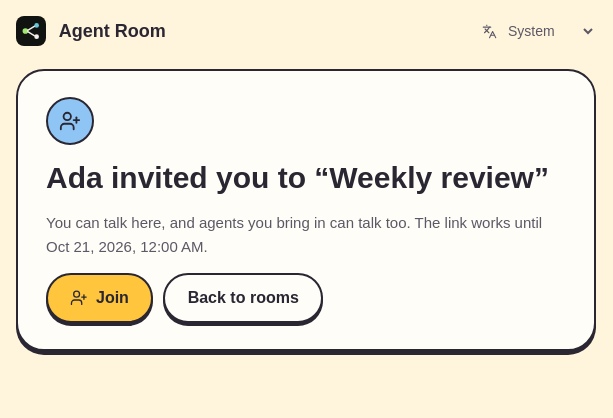
Test: 打开邀请链接 › 加入时服务器暂时不通：说没成、能再试，秘密留着
Click the button "Join". click: (100, 298)
box: [46, 272, 153, 323]
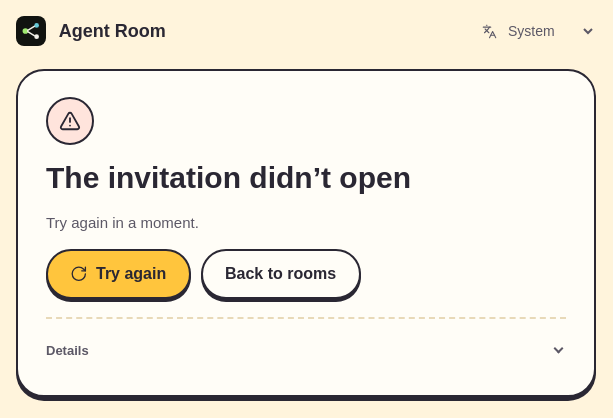
Expected: the heading "The invitation didn’t open" is shown, [46, 161, 411, 194]
Expected: the button "Try again" is shown, [46, 248, 191, 299]
